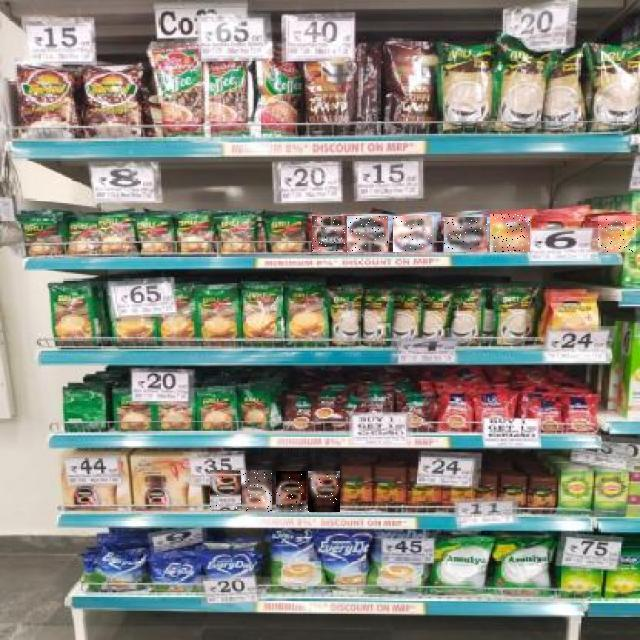Coffee: (490, 214, 530, 252), (394, 216, 436, 252), (444, 217, 487, 252), (347, 216, 388, 252), (598, 216, 636, 252), (308, 471, 340, 512), (242, 470, 272, 512), (210, 470, 241, 510), (312, 216, 346, 252), (276, 472, 306, 512)
